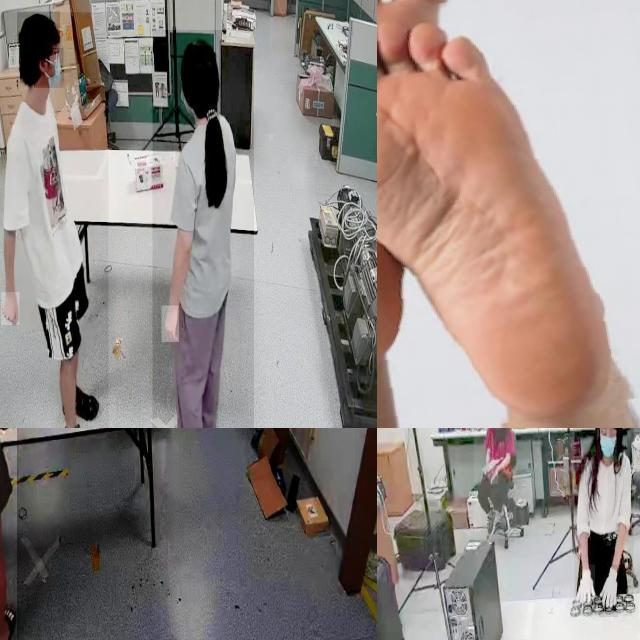Barefoots: (377, 20, 637, 419), (377, 0, 455, 384)
face_mask: (34, 48, 64, 88), (597, 429, 617, 464)
hand_glove: (598, 564, 618, 618), (576, 564, 596, 614)
hand_noglove: (162, 305, 180, 343), (1, 292, 20, 326), (489, 466, 499, 484)
head_nohelmet: (17, 12, 61, 44), (180, 38, 218, 75)
person: (0, 12, 108, 428), (152, 30, 254, 428), (574, 428, 633, 617), (474, 428, 517, 539)
shoes: (61, 384, 101, 424), (482, 504, 498, 540), (496, 502, 510, 536)
